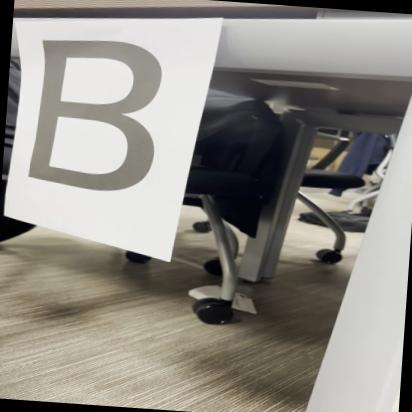seat: (16, 26, 180, 205)
